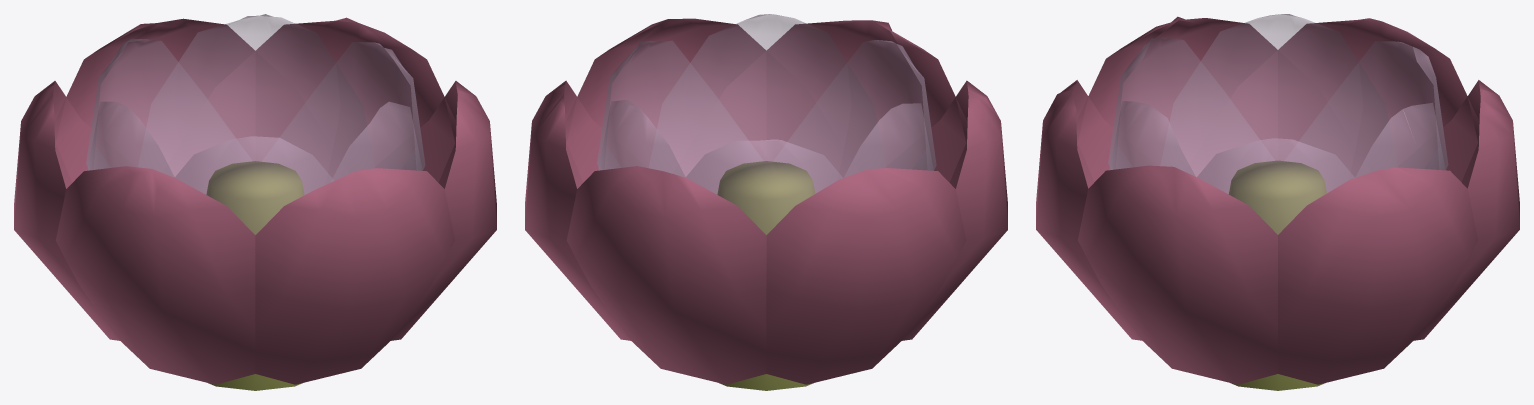
Rendered from ITM_Lotus_Flower_Rite.fbx.
The picture shows the model from 3 angles, left to right: view 1: azimuth 30°, elevation 25°; view 2: azimuth 150°, elevation 25°; view 3: azimuth 270°, elevation 25°; orthographic projection.
Parts seen in each view (by area): view 1: pSphere10; view 2: pSphere10; view 3: pSphere10.
Part boxes in pixels (left/top/right/bottom): pSphere10: left=14, top=14, right=496, bottom=390; pSphere10: left=525, top=14, right=1007, bottom=390; pSphere10: left=1036, top=14, right=1519, bottom=390.
Size of the model in its own units: 1.18 by 0.7832 by 1.21.
